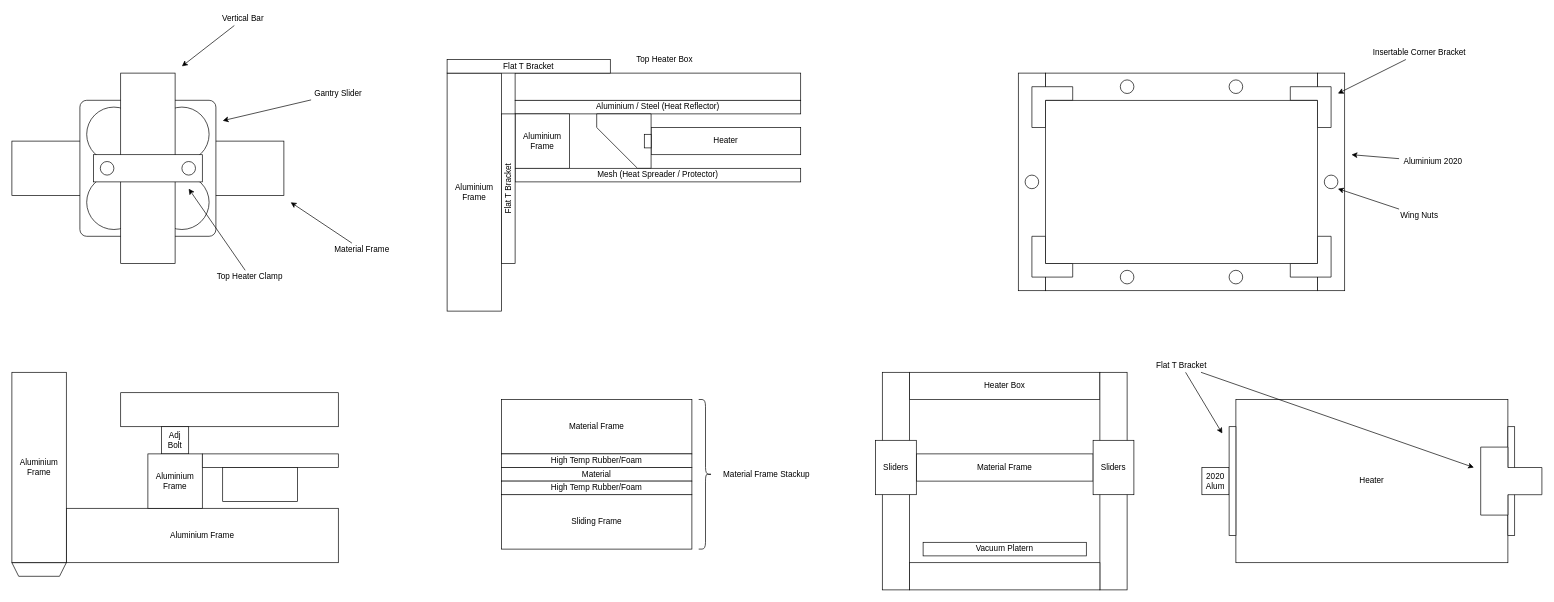
Image size: 1554x602. Some labels were removed from this diagram. The shapes that lost their labels are listed below. From the top down, each one's centre as x and y in pixels, then its label:
point 657,86: Hardieflex (Insulation)
point 623,140: Corner Bracket
point 229,409: Wooden Board
point 270,460: Din Rails
point 260,484: Components
point 38,569: Rubber
